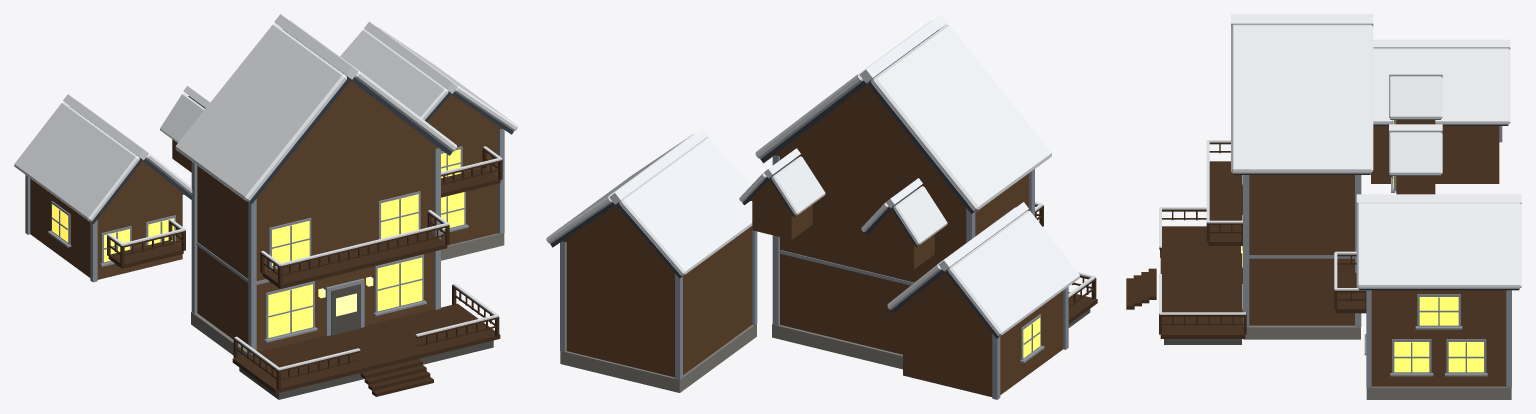
The model's file is lodge-annex-2-aframe60s.glb.
The picture shows the model from 3 angles, left to right: view 1: azimuth 30°, elevation 25°; view 2: azimuth 150°, elevation 25°; view 3: azimuth 270°, elevation 25°; orthographic projection. The views are drawn at different scales.
Parts seen in each view (by area): view 1: lodge-annex-2-aframe60s; view 2: lodge-annex-2-aframe60s; view 3: lodge-annex-2-aframe60s.
Part boxes in pixels (x1,y1,x2,y2): lodge-annex-2-aframe60s: (14,14,517,399); lodge-annex-2-aframe60s: (546,14,1097,399); lodge-annex-2-aframe60s: (1126,14,1521,399).
Bounding box in the file's own units: 25.07 × 15.95 × 20.28.
